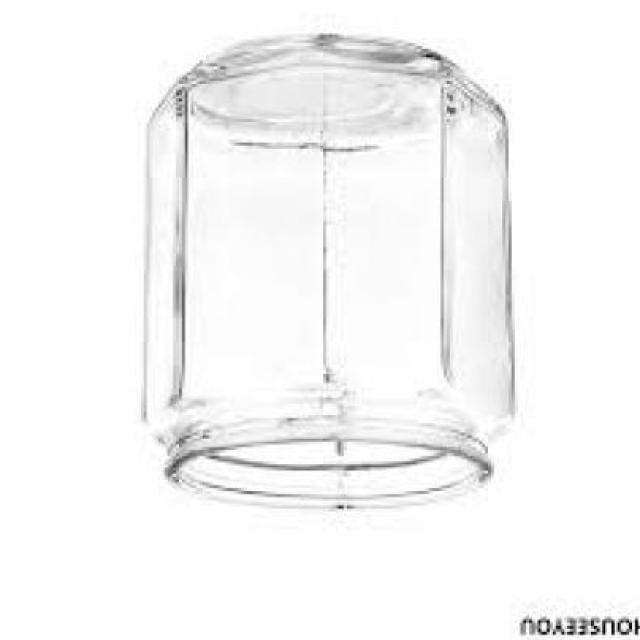kaca: (143, 37, 516, 514)
